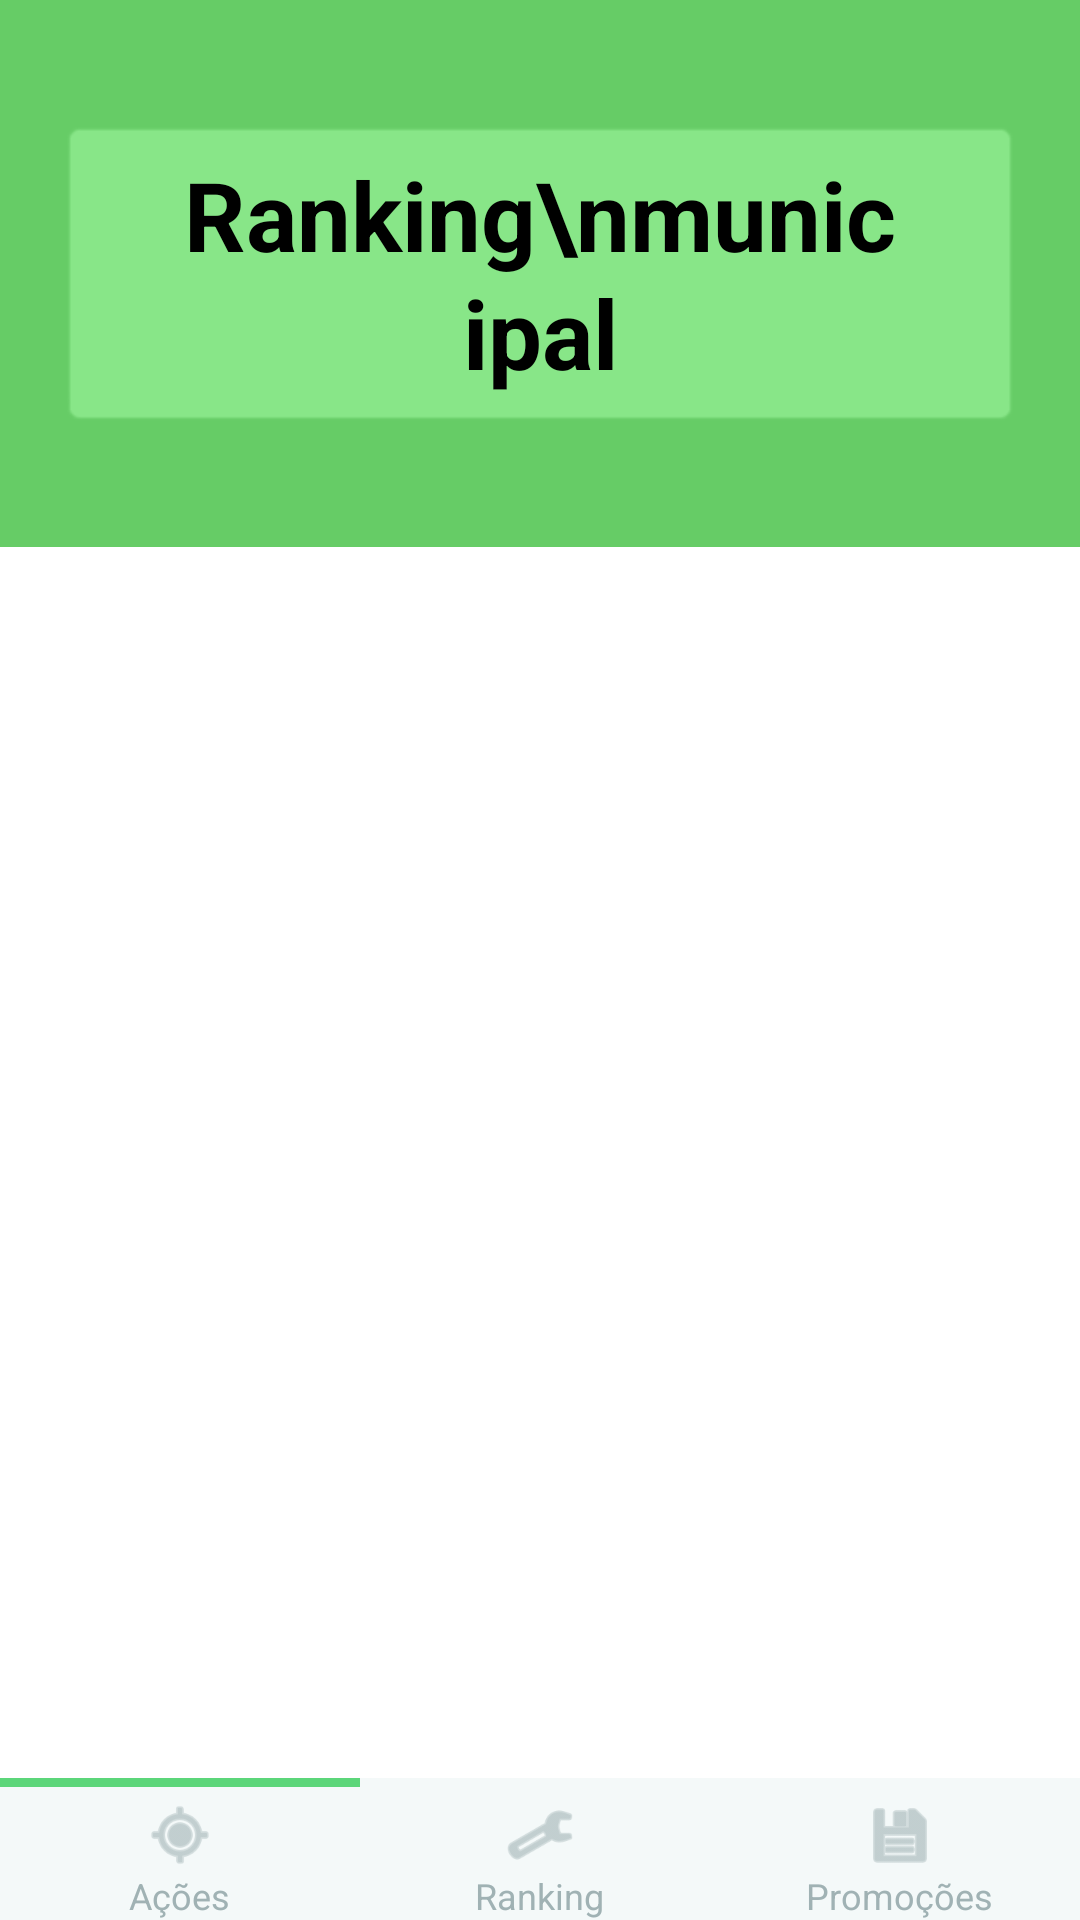

Screen size 1080 × 1920. Icon name, then its center in pixels as point (x, y):
manage: point (540, 1835)
mylocation: point (180, 1835)
save: point (900, 1835)
